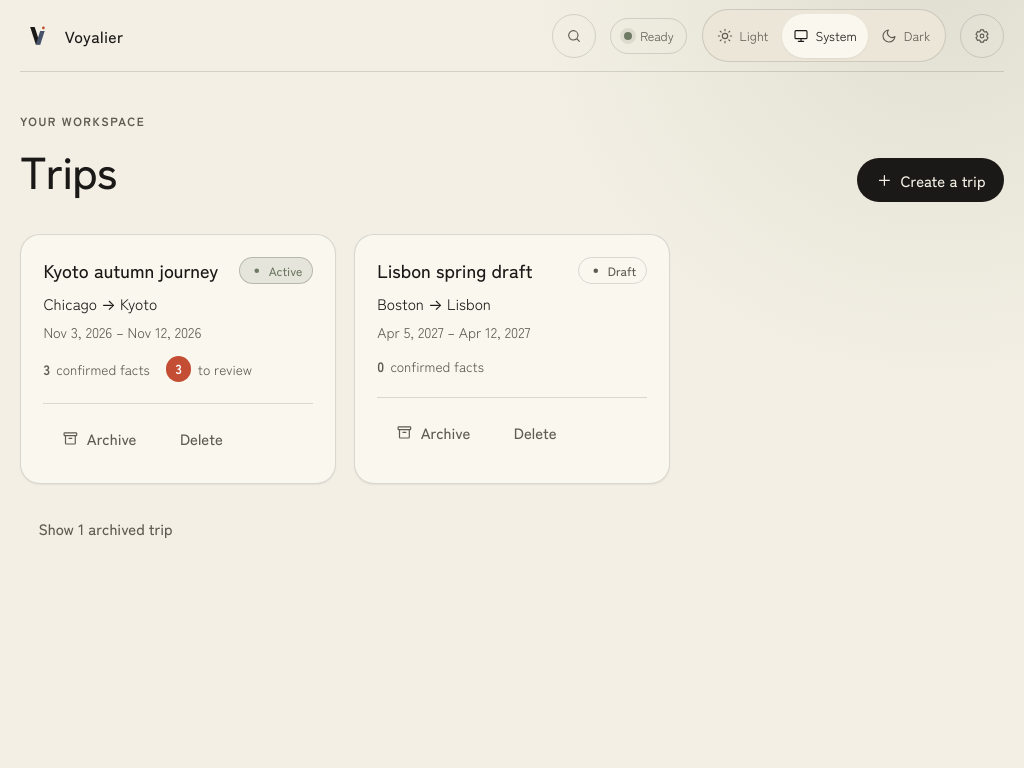
airport code suggestions › finds the airport a traveler knows by name but not by code
The width and height of the screenshot is (1024, 768).
Click the button with aria-label "Open Kyoto autumn journey" at (131,270), box [43,257,218,283]
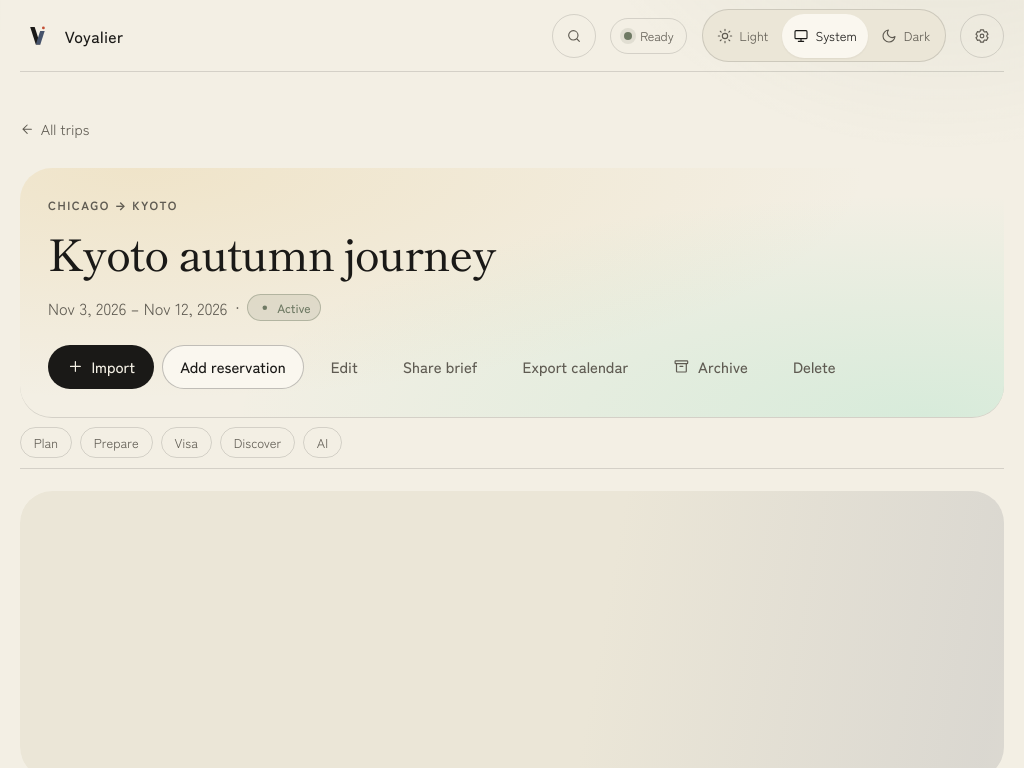
Click the button "Add reservation" at (233,367), box [162,345,304,389]
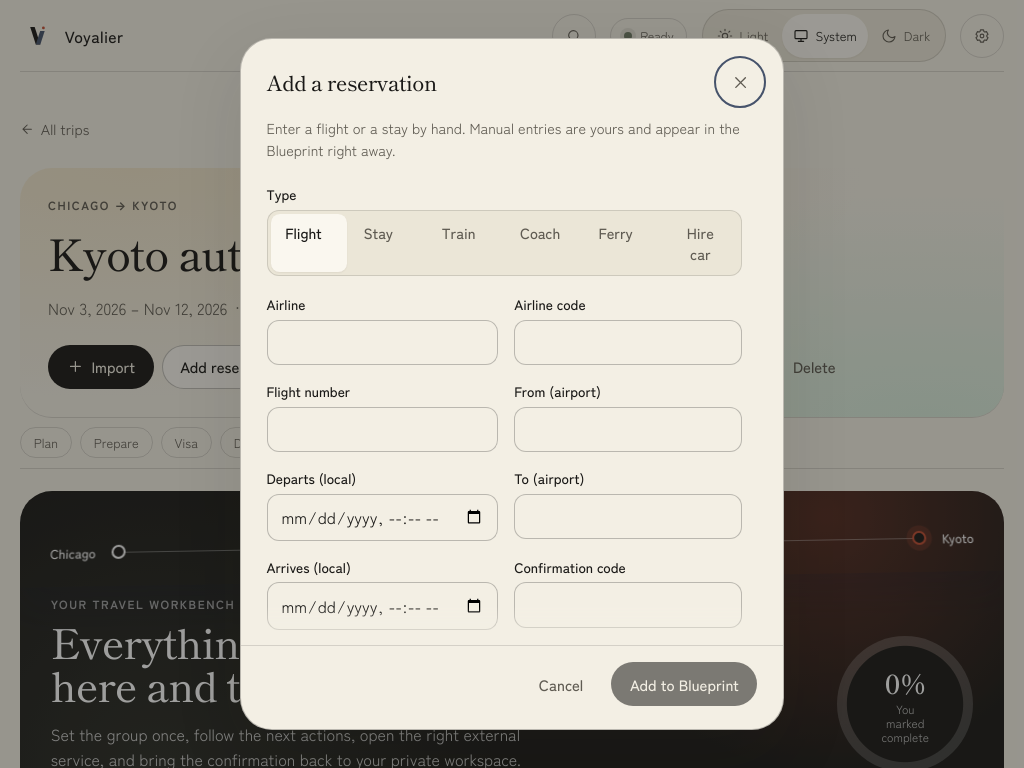
Type "haneda" into the field labelled "To (airport)" at (628,516), box [514,494,742,539]
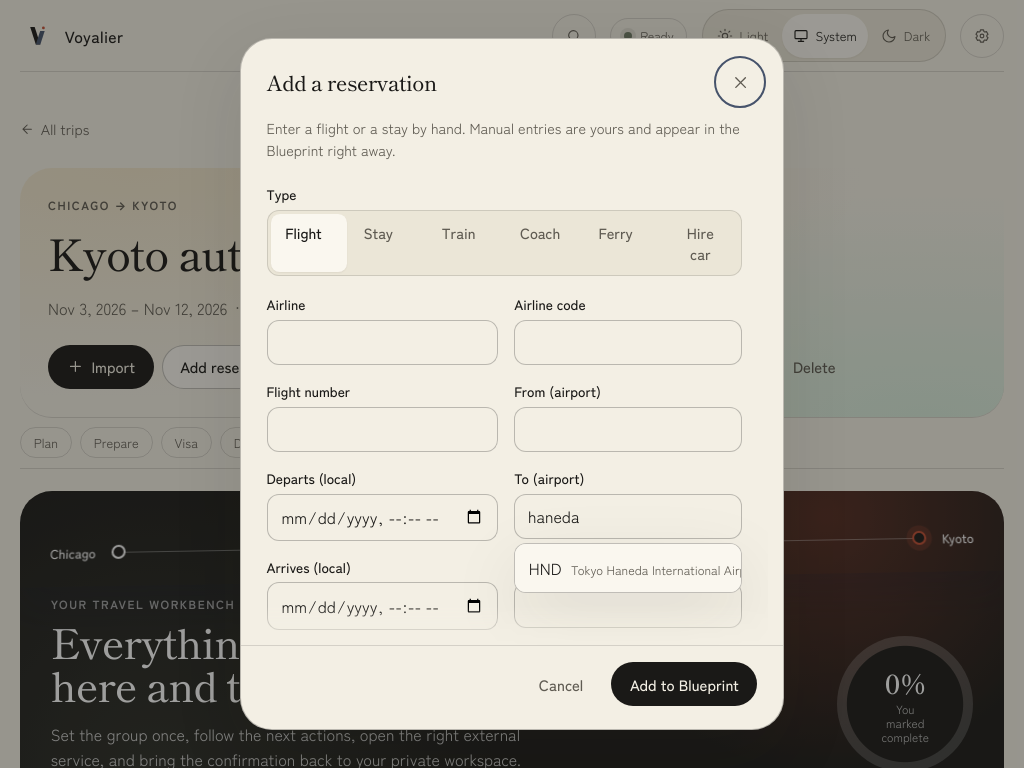
Expected: the option "HND Tokyo Haneda International Airport" is shown, [519,548,737,588]
